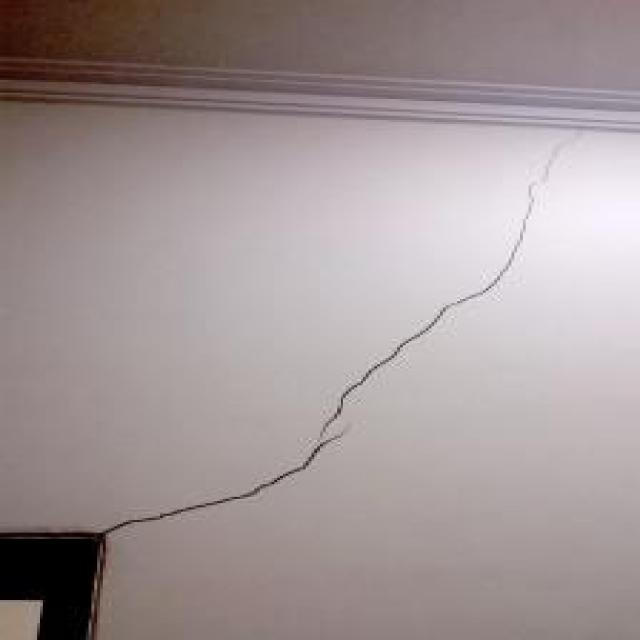crack: (317, 127, 586, 435), (100, 429, 355, 537)
